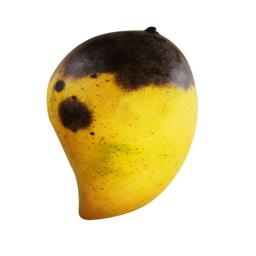Mango Semirotten: (35, 28, 212, 226)
